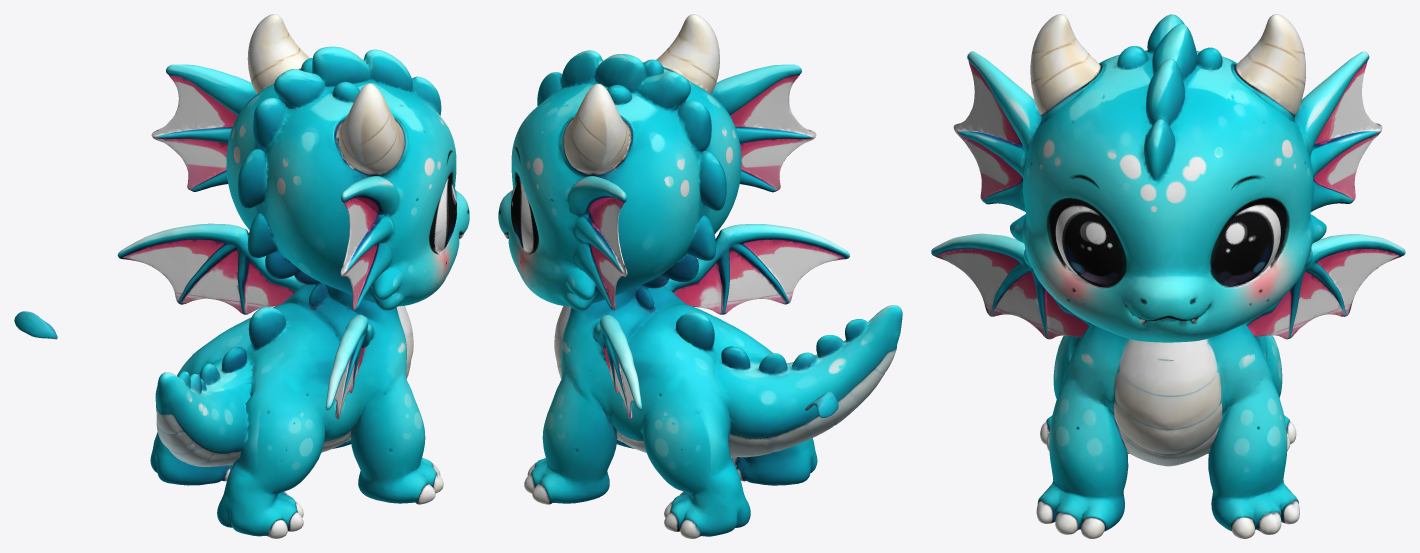
The picture shows the model from 3 angles, left to right: view 1: azimuth 30°, elevation 25°; view 2: azimuth 150°, elevation 25°; view 3: azimuth 270°, elevation 25°; orthographic projection. The views are drawn at different scales.
Visible parts, largest first — view 1: tripo_node_e2712802-ba3c-4d3c-be3b-c7432886a75e; view 2: tripo_node_e2712802-ba3c-4d3c-be3b-c7432886a75e; view 3: tripo_node_e2712802-ba3c-4d3c-be3b-c7432886a75e.
Boxes of the visible parts, bbox=[...] form: tripo_node_e2712802-ba3c-4d3c-be3b-c7432886a75e: bbox=[14, 14, 469, 538]; tripo_node_e2712802-ba3c-4d3c-be3b-c7432886a75e: bbox=[498, 14, 902, 538]; tripo_node_e2712802-ba3c-4d3c-be3b-c7432886a75e: bbox=[931, 14, 1405, 538].
Bounding box in the file's own units: 0.9473 × 1 × 0.8917.
1 material, 1 textured.
